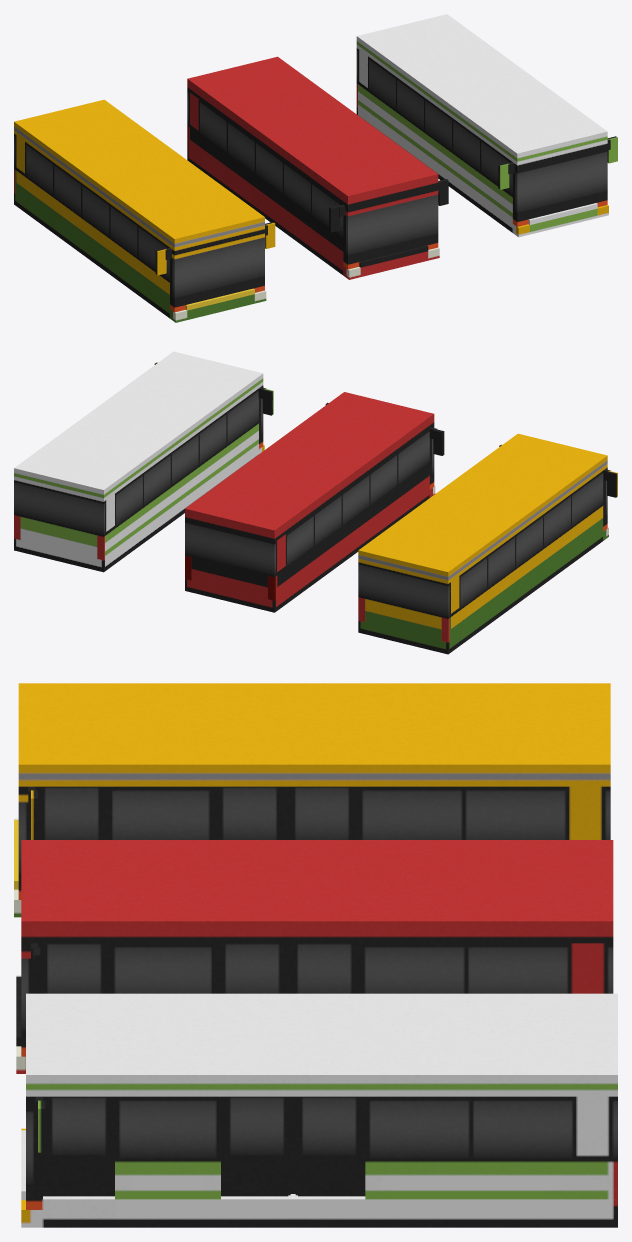
File: Vehicles_03.fbx
The picture shows the model from 3 angles, top to bottom: view 1: azimuth 30°, elevation 25°; view 2: azimuth 150°, elevation 25°; view 3: azimuth 270°, elevation 25°; orthographic projection. The views are drawn at different scales.
Visible parts, largest first — view 1: Bus_01, Bus_02, Bus_03; view 2: Bus_01, Bus_02, Bus_03; view 3: Bus_03, Bus_01, Bus_02.
Boxes of the visible parts, box(x1,y1,x2,y2) form: Bus_01: box(14, 99, 275, 322); Bus_02: box(187, 56, 448, 279); Bus_03: box(356, 14, 617, 237); Bus_01: box(358, 433, 617, 654); Bus_02: box(185, 392, 444, 612); Bus_03: box(14, 351, 273, 572); Bus_03: box(21, 993, 617, 1227); Bus_01: box(14, 683, 610, 917); Bus_02: box(16, 840, 613, 1073).
Size of the model in its own units: 409 by 70 by 251.
